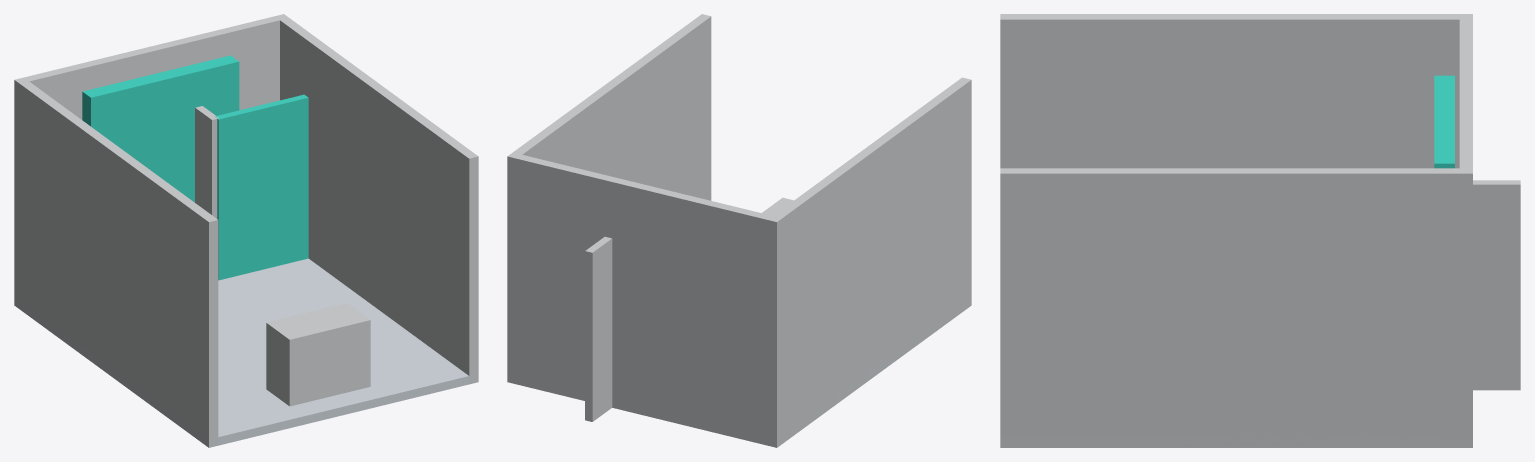
3 views of the same model, side by side, from view 1: azimuth 30°, elevation 25°; view 2: azimuth 150°, elevation 25°; view 3: azimuth 270°, elevation 25° (orthographic). The views are drawn at different scales.
Parts seen in each view (by area): view 1: Exhibition Booth Concept; view 2: Exhibition Booth Concept; view 3: Exhibition Booth Concept.
Part boxes in pixels (x1=…): Exhibition Booth Concept: x1=14, y1=14, x2=478, y2=447; Exhibition Booth Concept: x1=507, y1=14, x2=971, y2=447; Exhibition Booth Concept: x1=1000, y1=14, x2=1520, y2=447.
Size of the model in its own units: 4 by 3.2 by 5.51.
